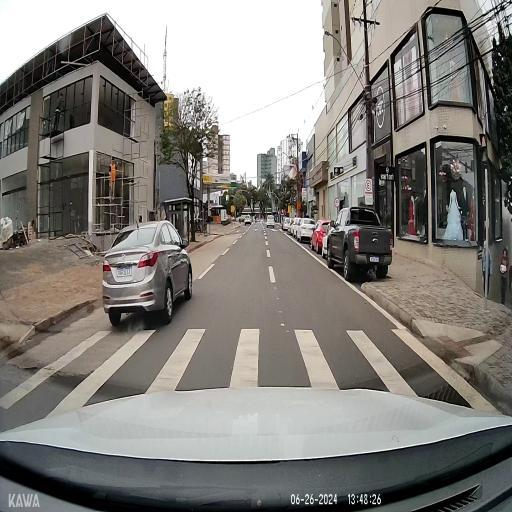R-19: (334, 198, 340, 208)
R-6a: (208, 203, 212, 210)
R-6b: (366, 180, 372, 190)
